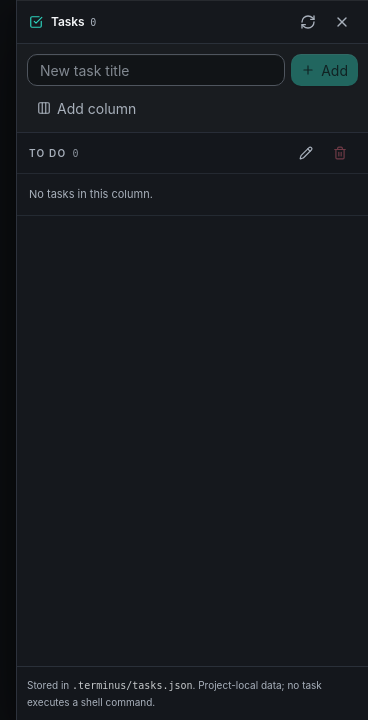
Test case: v0.2 workbench panels › creates a task column from the panel
Click the button "Add column".
click(97, 108)  # box [27, 94, 358, 122]
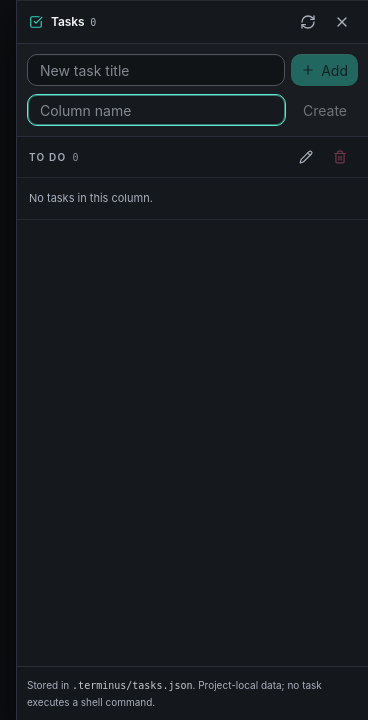
Type "Review" into the field named "New column name".
click(156, 110); type("Review")  # box [27, 94, 286, 126]
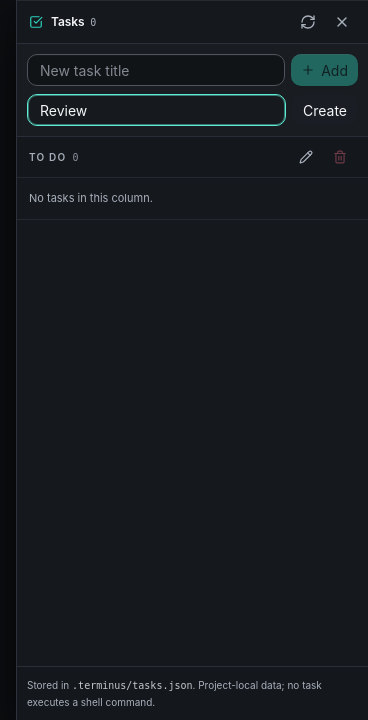
Click the button "Create".
click(325, 110)  # box [292, 94, 358, 126]
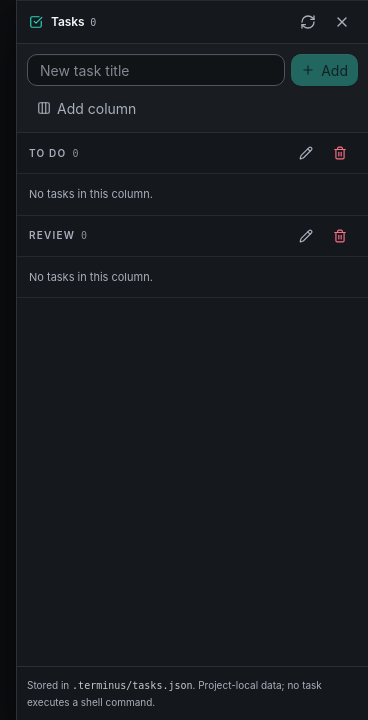
Now the heading "Review" is shown, box [29, 228, 75, 243]
